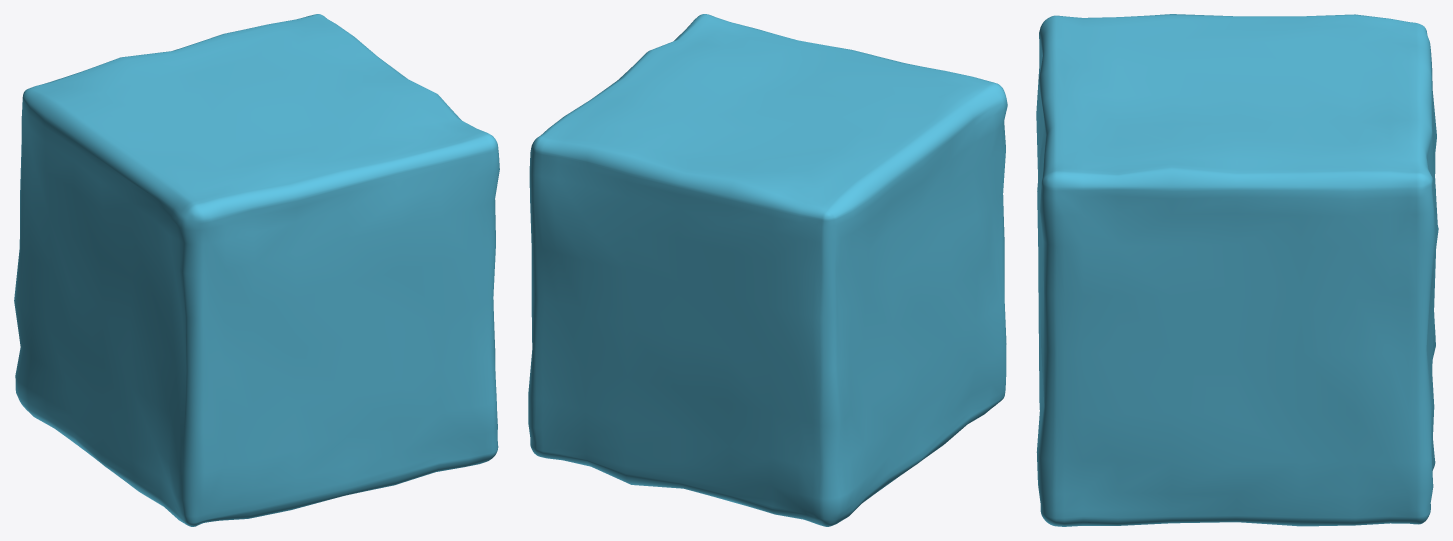
File: kostka2.glb
3 views of the same model, side by side, from view 1: azimuth 30°, elevation 25°; view 2: azimuth 150°, elevation 25°; view 3: azimuth 270°, elevation 25° (orthographic). The views are drawn at different scales.
Visible parts, largest first — view 1: Cube; view 2: Cube; view 3: Cube.
Part boxes in pixels (x1=…): Cube: x1=14, y1=14, x2=499, y2=526; Cube: x1=528, y1=14, x2=1007, y2=526; Cube: x1=1036, y1=14, x2=1438, y2=526.
Size of the model in its own units: 2.05 by 2.05 by 2.05.
